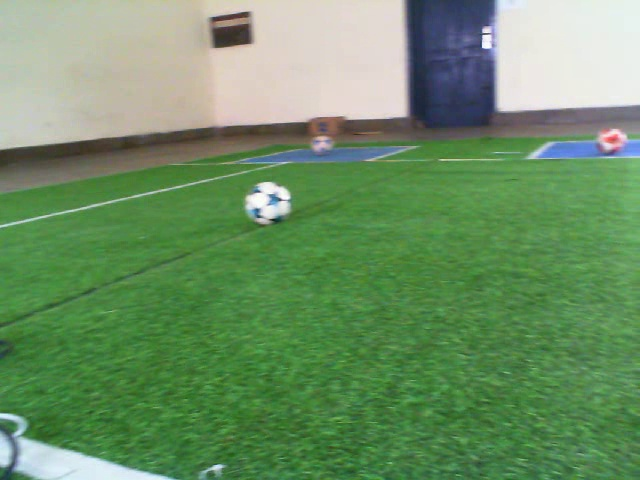ball: (242, 179, 294, 229), (593, 124, 630, 158), (308, 134, 337, 158)
